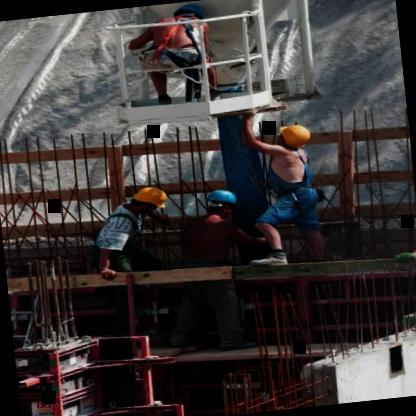helmet: (126, 182, 174, 218), (168, 0, 211, 37), (204, 186, 242, 224), (270, 122, 314, 154)
